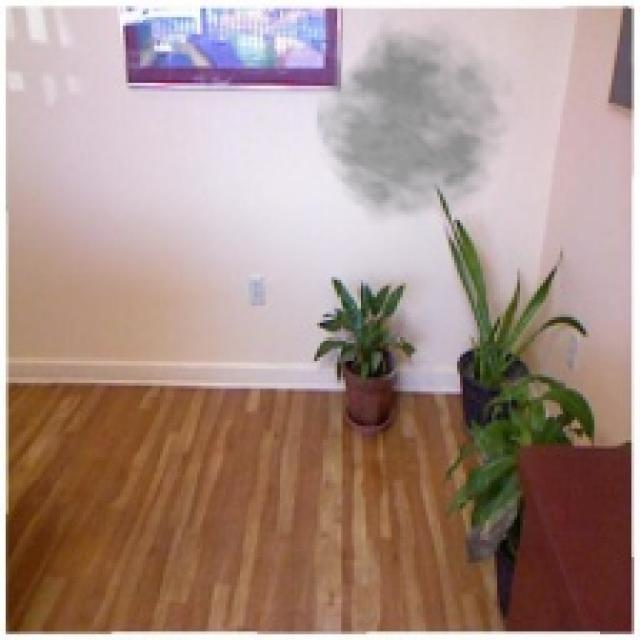Smoke: (314, 11, 526, 226)
